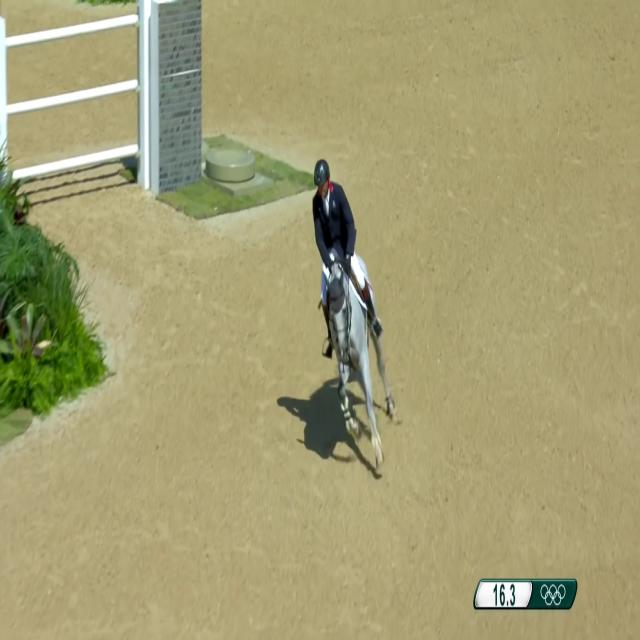Horse Rider: (300, 135, 361, 359)
Horse Running: (314, 246, 406, 491)
